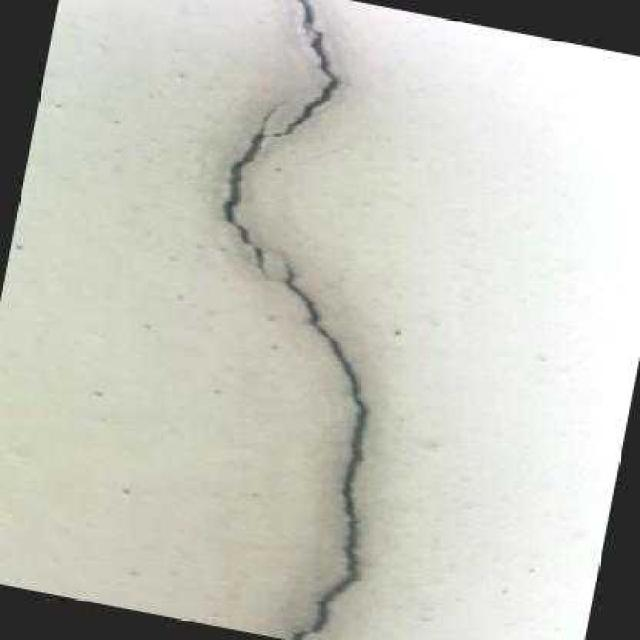D00: (223, 0, 337, 277), (284, 263, 366, 640)
